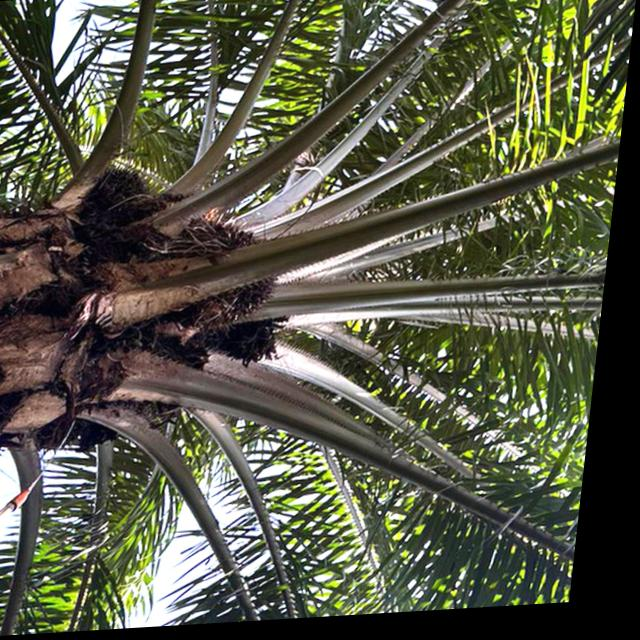ripe: (173, 214, 291, 343), (89, 165, 169, 236)
